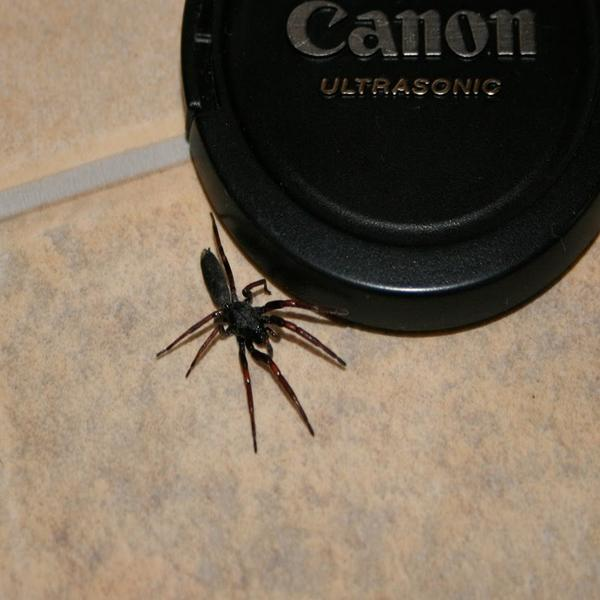White-Tailed Spider: (166, 216, 351, 446)
